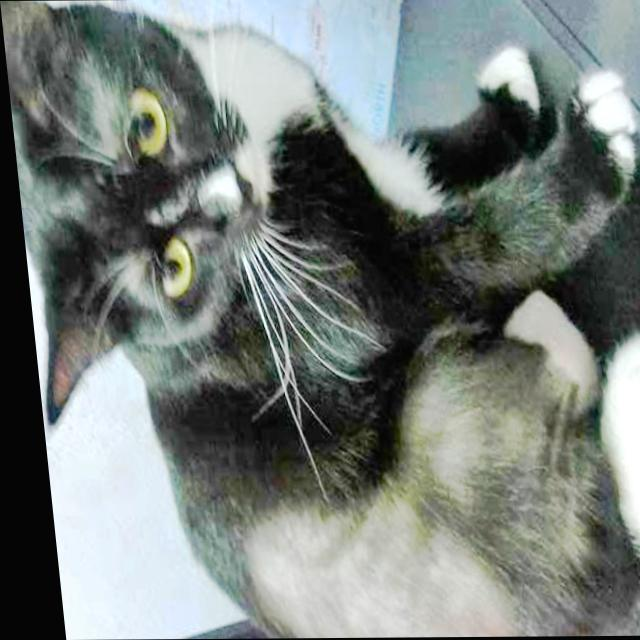hairloss: (266, 515, 515, 638)
